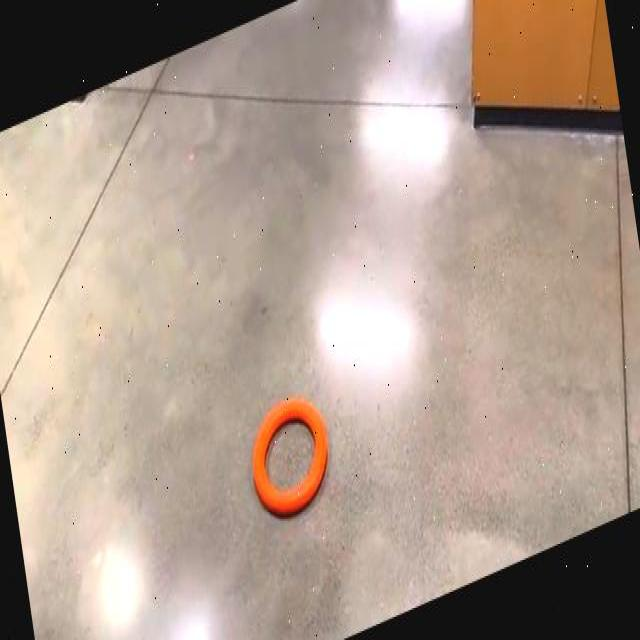note: (253, 398, 328, 516)
